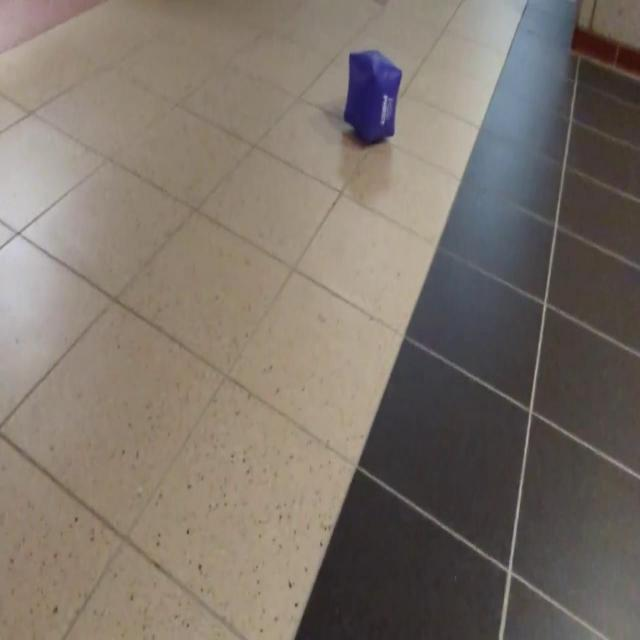frc_cube: (343, 51, 403, 143)
